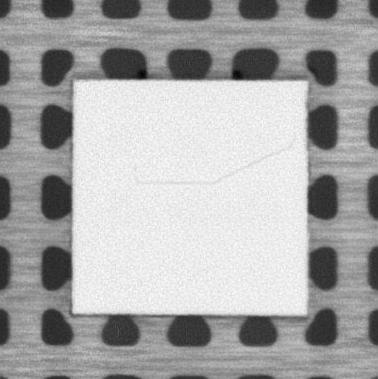DIE_CRACK: (138, 135, 299, 185)
